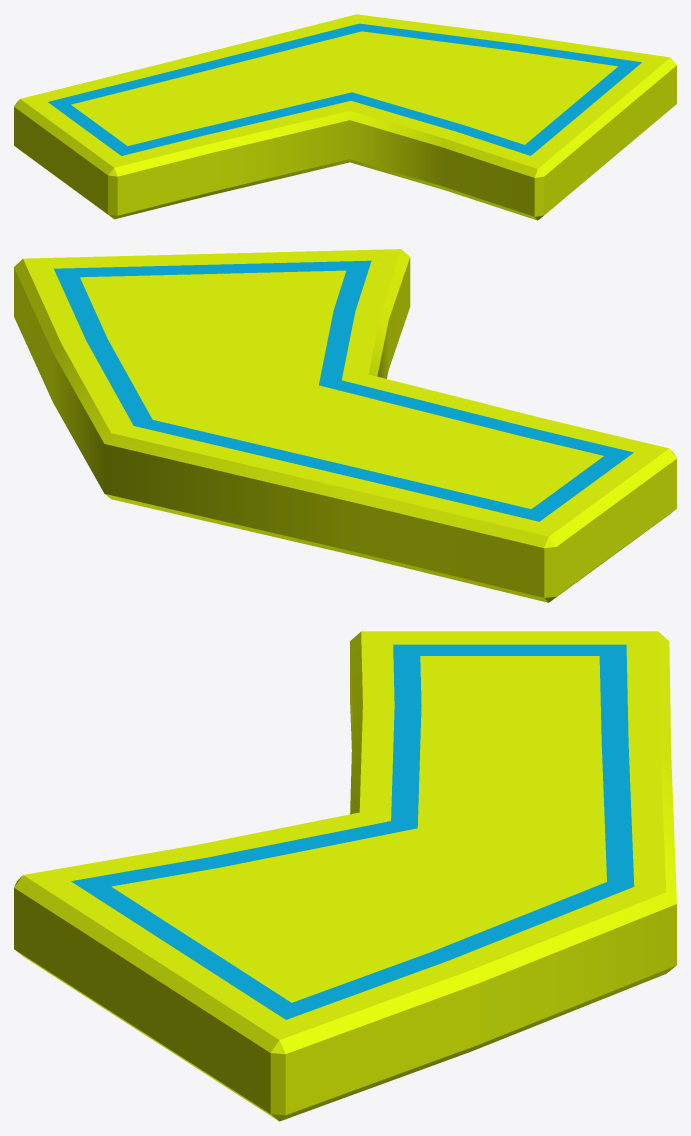
The model's file is Re_Inlane_Turn.fbx.
3 renders of one model, top to bottom at view 1: azimuth 30°, elevation 25°; view 2: azimuth 150°, elevation 25°; view 3: azimuth 270°, elevation 25°, orthographic. The views are drawn at different scales.
Parts seen in each view (by area): view 1: Re_Inlane_Turn; view 2: Re_Inlane_Turn; view 3: Re_Inlane_Turn.
Part boxes in pixels (x1,y1,x2,y2): Re_Inlane_Turn: [14, 14, 676, 220]; Re_Inlane_Turn: [14, 249, 676, 602]; Re_Inlane_Turn: [14, 631, 676, 1121].
Bounding box in the file's own units: 3.12 × 0.2852 × 2.09.
